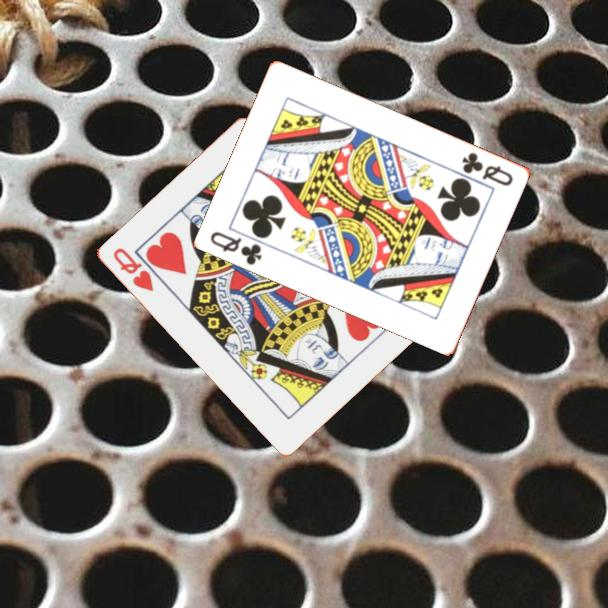c12: (207, 228, 266, 268), (459, 148, 516, 189)
h12: (109, 244, 156, 295)
